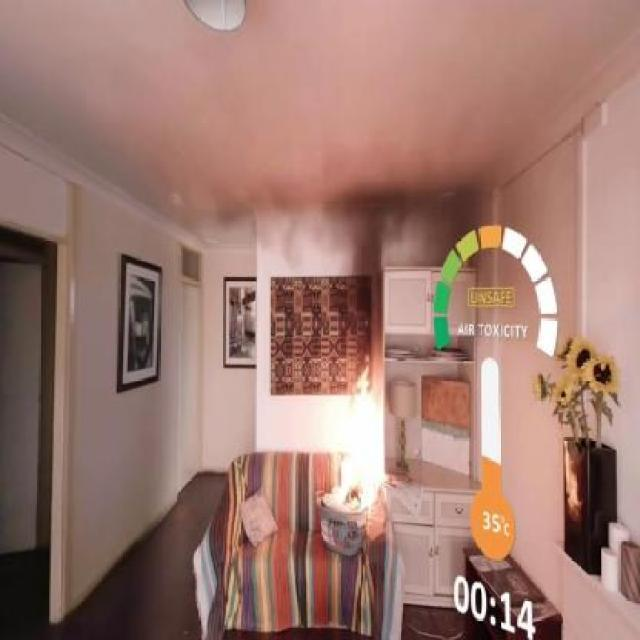fire: (296, 393, 396, 555)
